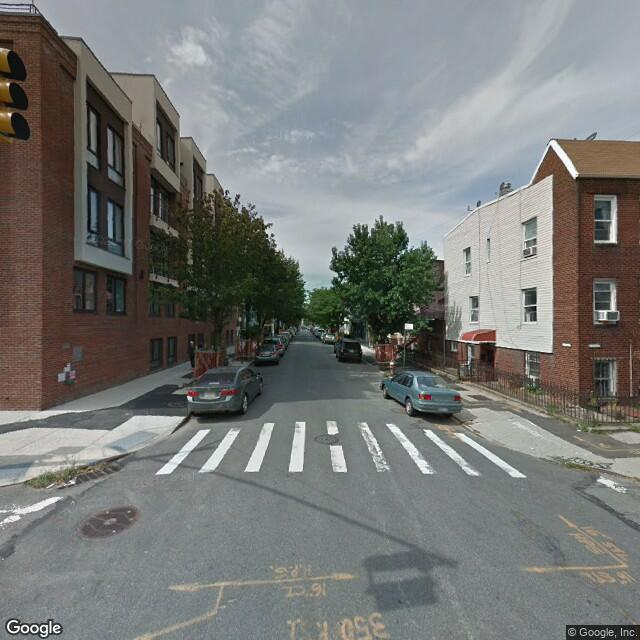litter: (67, 477, 76, 486), (47, 482, 55, 489), (577, 429, 583, 432)
